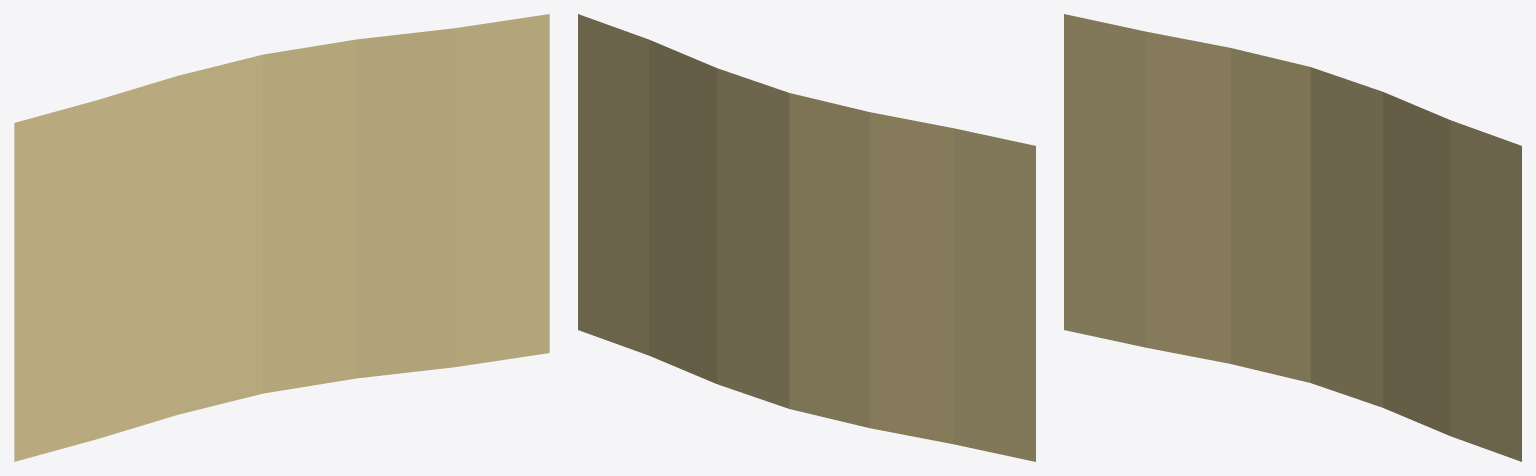
Rendered from FlagYellow.fbx.
3 renders of one model, left to right at view 1: azimuth 30°, elevation 25°; view 2: azimuth 150°, elevation 25°; view 3: azimuth 330°, elevation 25°, orthographic. The views are drawn at different scales.
Parts seen in each view (by area): view 1: FlagYellow; view 2: FlagYellow; view 3: FlagYellow.
Part boxes in pixels (x1,y1,x2,y2): FlagYellow: (14, 14, 549, 461); FlagYellow: (578, 14, 1035, 461); FlagYellow: (1064, 14, 1521, 461).
Size of the model in its own units: 1.6 by 1.01 by 0.1624.
